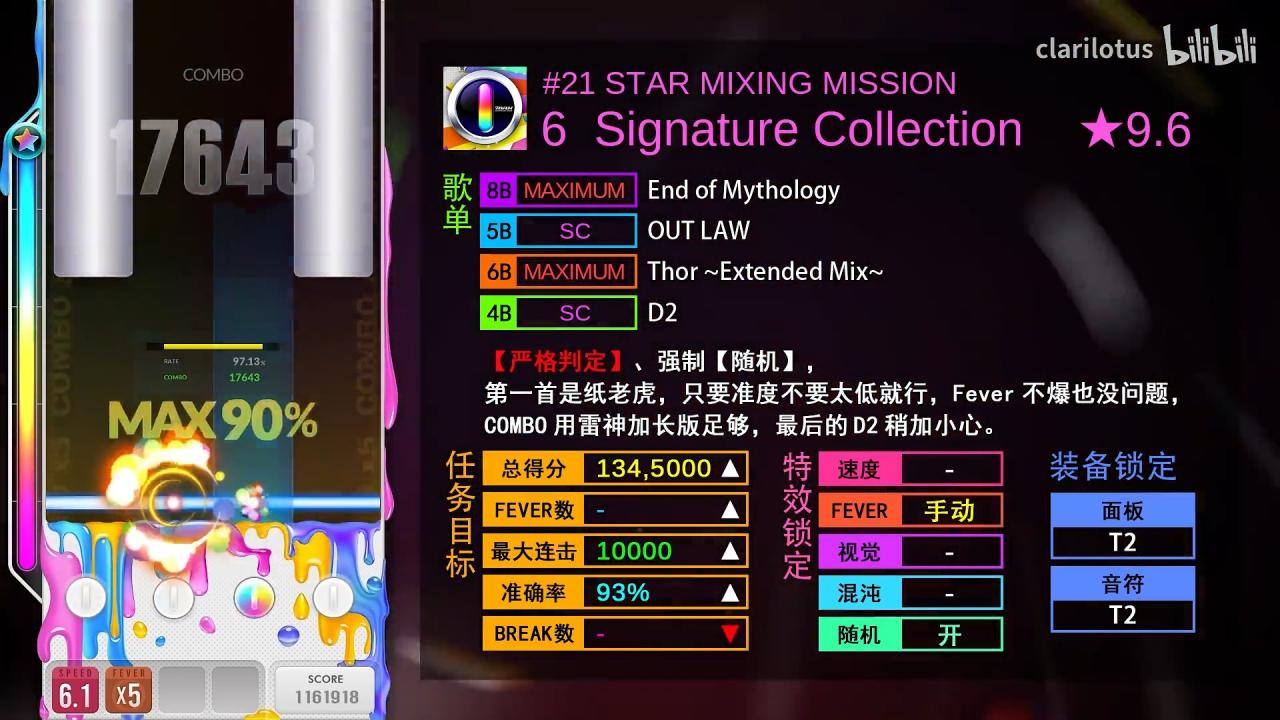hold-start: (294, 262, 374, 277), (54, 264, 132, 278)
